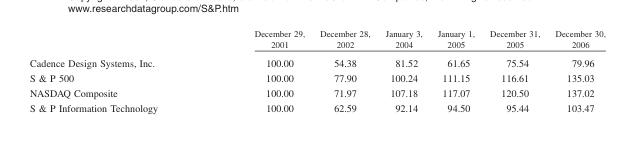table: (29, 28, 604, 113)
table column: (29, 28, 205, 113), (205, 28, 311, 113), (311, 28, 377, 113), (481, 28, 546, 113), (546, 28, 604, 113), (377, 28, 429, 113), (429, 28, 481, 113)
table column header: (29, 28, 604, 52)
table row: (29, 28, 604, 52), (29, 52, 604, 69), (29, 69, 604, 84), (29, 84, 604, 99), (29, 99, 604, 113)
